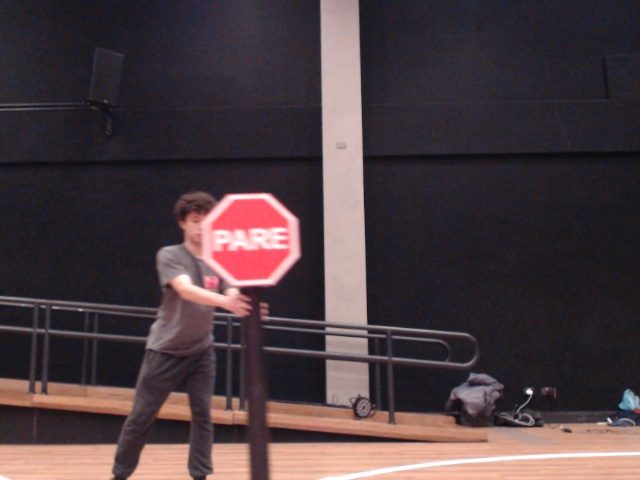SEMAFORO: (191, 181, 329, 308)
